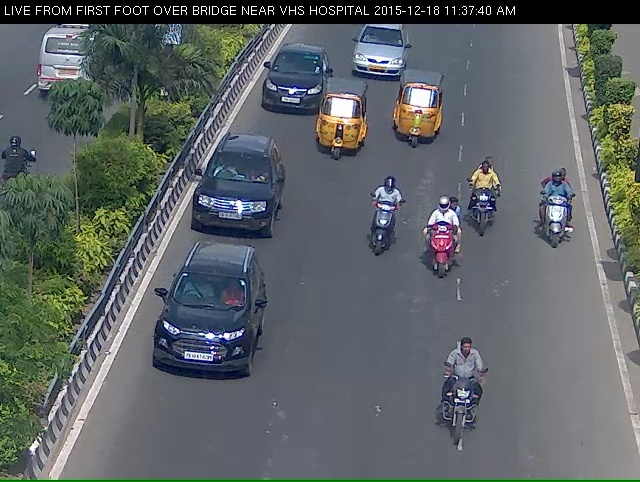Auto: (386, 86, 455, 153), (319, 91, 374, 173)
Car: (140, 261, 268, 428), (189, 150, 284, 259), (256, 49, 322, 120), (353, 27, 414, 95)
Person: (430, 372, 504, 479), (359, 200, 402, 291), (463, 176, 513, 253), (537, 183, 581, 268), (420, 220, 459, 291)
